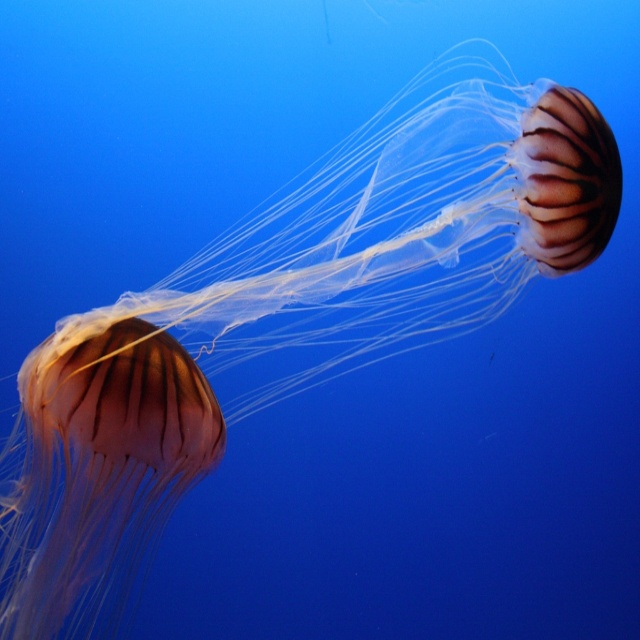Jellyfish: (36, 39, 623, 430), (0, 308, 227, 640)
